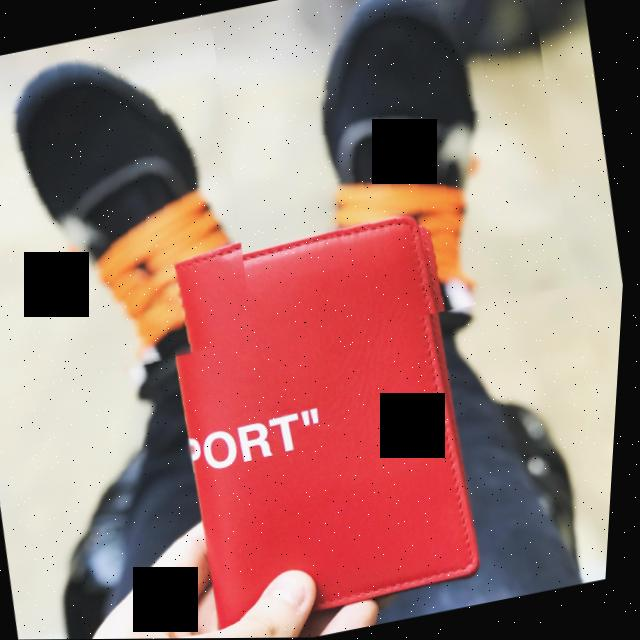shoe: (0, 28, 276, 402), (282, 0, 590, 333)
